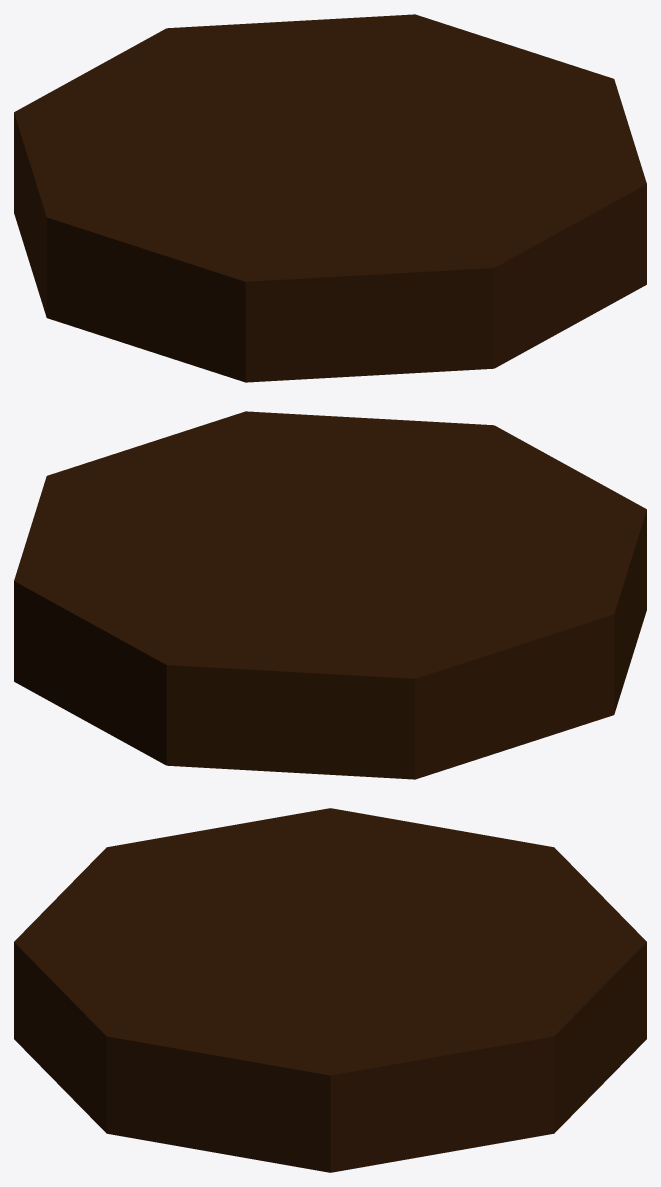
The model's file is jar_deckel.fbx.
3 renders of one model, top to bottom at view 1: azimuth 30°, elevation 25°; view 2: azimuth 150°, elevation 25°; view 3: azimuth 270°, elevation 25°, orthographic. The views are drawn at different scales.
Parts seen in each view (by area): view 1: Jar_Deckel1; view 2: Jar_Deckel1; view 3: Jar_Deckel1.
Boxes of the visible parts, bbox=[...] form: Jar_Deckel1: bbox=[14, 14, 646, 382]; Jar_Deckel1: bbox=[14, 411, 646, 779]; Jar_Deckel1: bbox=[14, 808, 646, 1172].
Bounding box in the file's own units: 1.73 × 0.2933 × 1.73.
